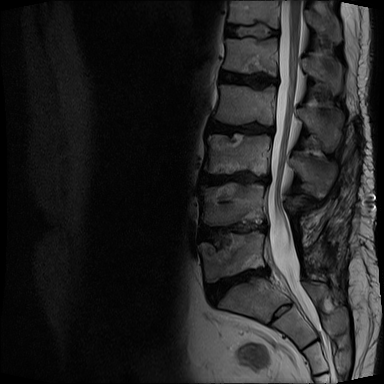Degenerative Disc Disease (DDD): (202, 261, 281, 313), (191, 213, 275, 247), (214, 66, 284, 90)
Lumbar Disc Bulge (LDB): (192, 165, 274, 192), (202, 115, 283, 140)
Spinal Stenosis (SS): (254, 165, 280, 193), (248, 212, 272, 241), (261, 117, 284, 140), (258, 260, 277, 286)
Spondylolisthesis: (191, 246, 289, 322)
Thoracic Disc Bulge (TDB): (220, 16, 282, 46)
